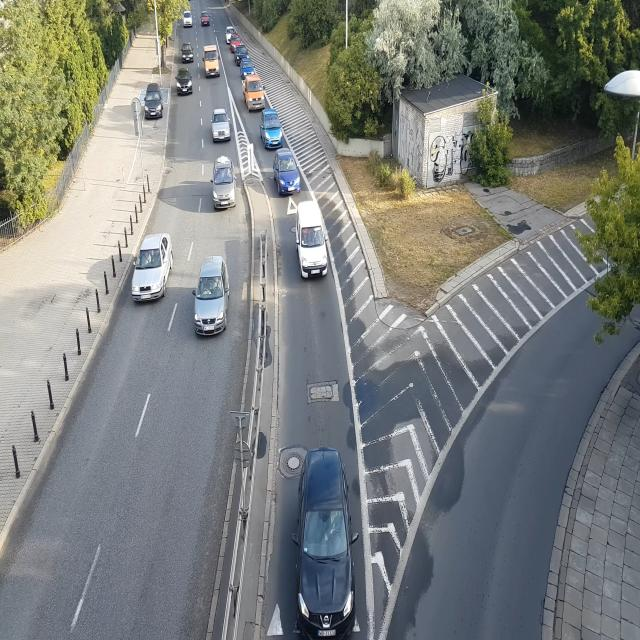car: (291, 436, 363, 640), (194, 255, 228, 336), (296, 203, 331, 280), (130, 237, 170, 300), (274, 150, 304, 197), (214, 155, 236, 211), (242, 73, 268, 111), (259, 110, 283, 151), (143, 88, 165, 120), (213, 108, 232, 144), (203, 45, 220, 76), (178, 2, 194, 32), (176, 75, 194, 96), (182, 47, 196, 63), (240, 60, 254, 76), (225, 23, 237, 41), (235, 46, 249, 60), (230, 34, 242, 48), (200, 15, 211, 27)
